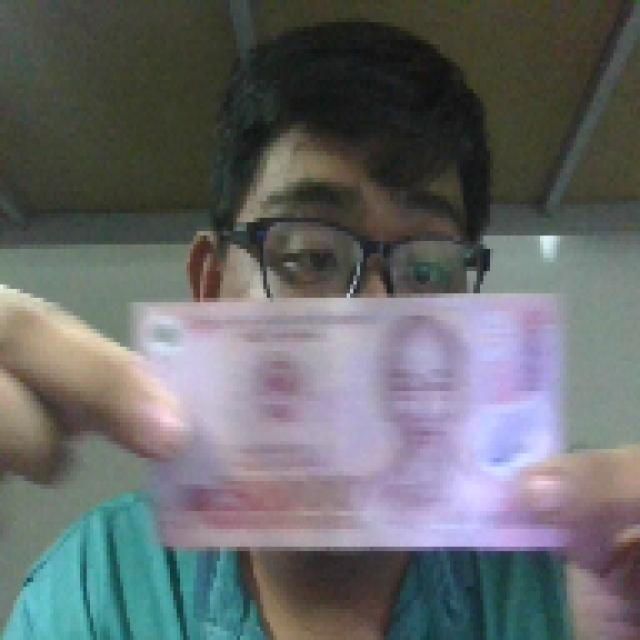50 000 VND: (127, 289, 573, 555)
